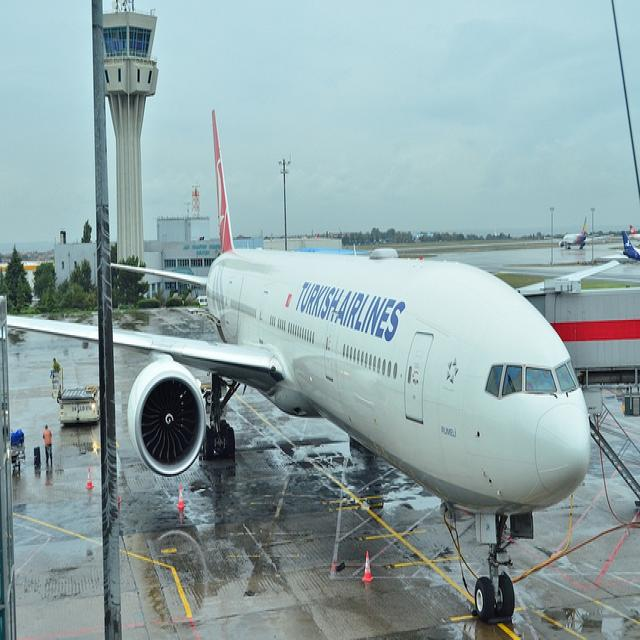Vehicle: (60, 390, 100, 422)
